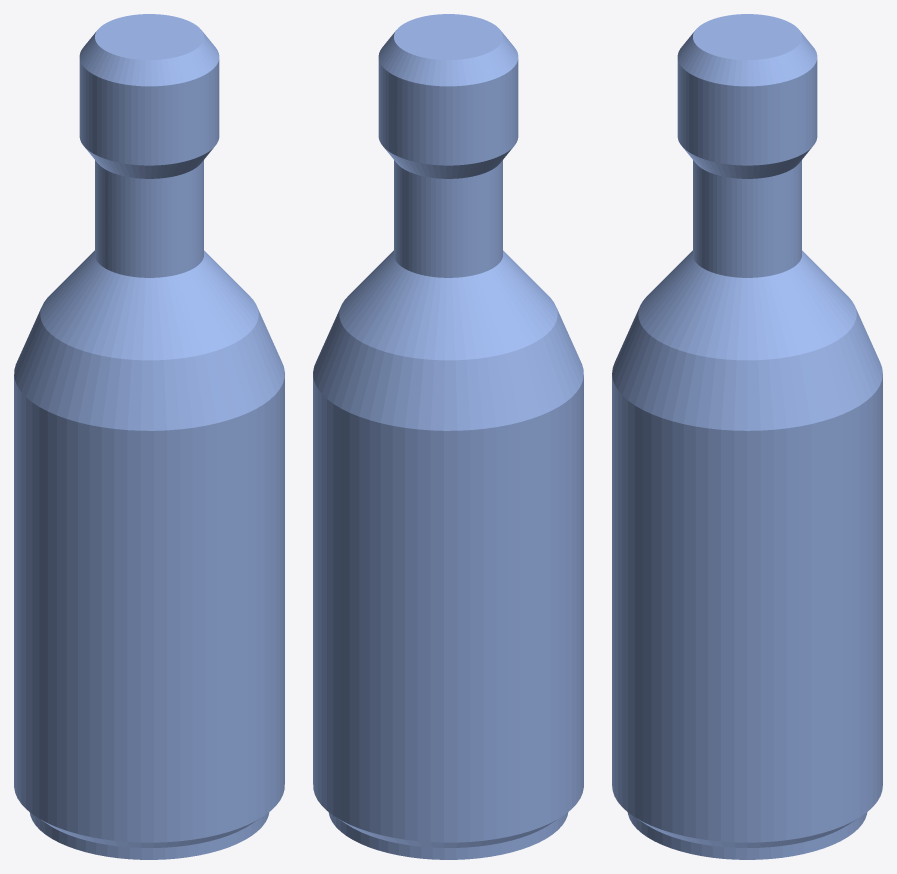
Rendered from hour-glass-1303b080.glb.
The picture shows the model from 3 angles, left to right: view 1: azimuth 30°, elevation 25°; view 2: azimuth 150°, elevation 25°; view 3: azimuth 270°, elevation 25°; orthographic projection.
Parts seen in each view (by area): view 1: output; view 2: output; view 3: output.
Part boxes in pixels (<box>): output: <box>14,14,284,859</box>; output: <box>313,14,583,859</box>; output: <box>612,14,882,859</box>.
Bounding box in the file's own units: 0.7313 × 2.3 × 0.7313.
